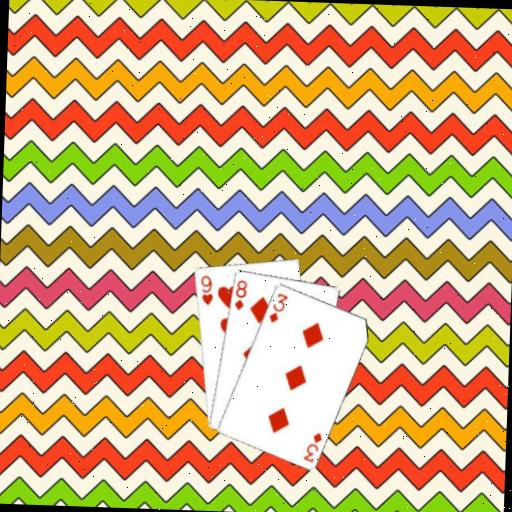3D: (265, 290, 289, 325), (300, 428, 324, 463)
8D: (230, 276, 248, 312)
9H: (196, 271, 214, 306)
